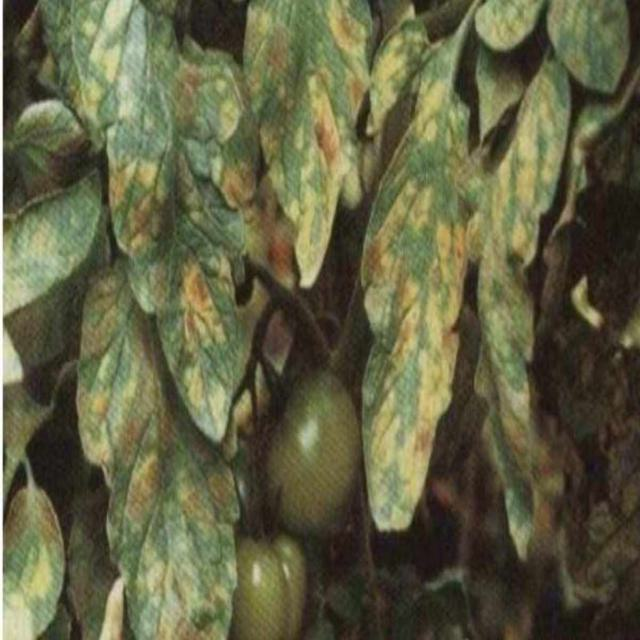Leaf_Mold: (42, 1, 247, 438), (75, 277, 241, 640), (356, 87, 463, 534), (476, 65, 570, 562), (247, 3, 358, 288), (5, 484, 66, 640), (361, 20, 423, 135)
